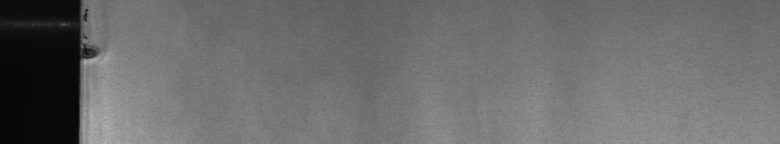hb: (88, 37, 109, 72)
